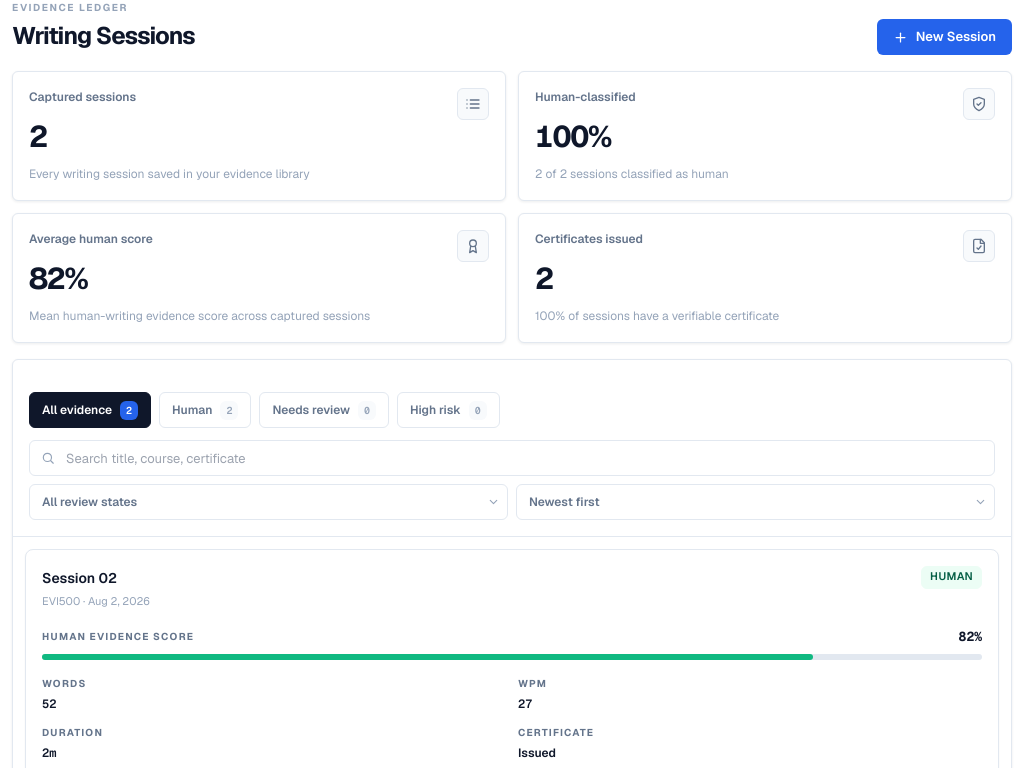
Test: SessionsPage final operational closure › resets all filters from the no-match action
Type "impossible-filter" into the field with placeholder "Search title, course, certificate" at (512, 458), box [29,440,995,476]
(page scrolled)
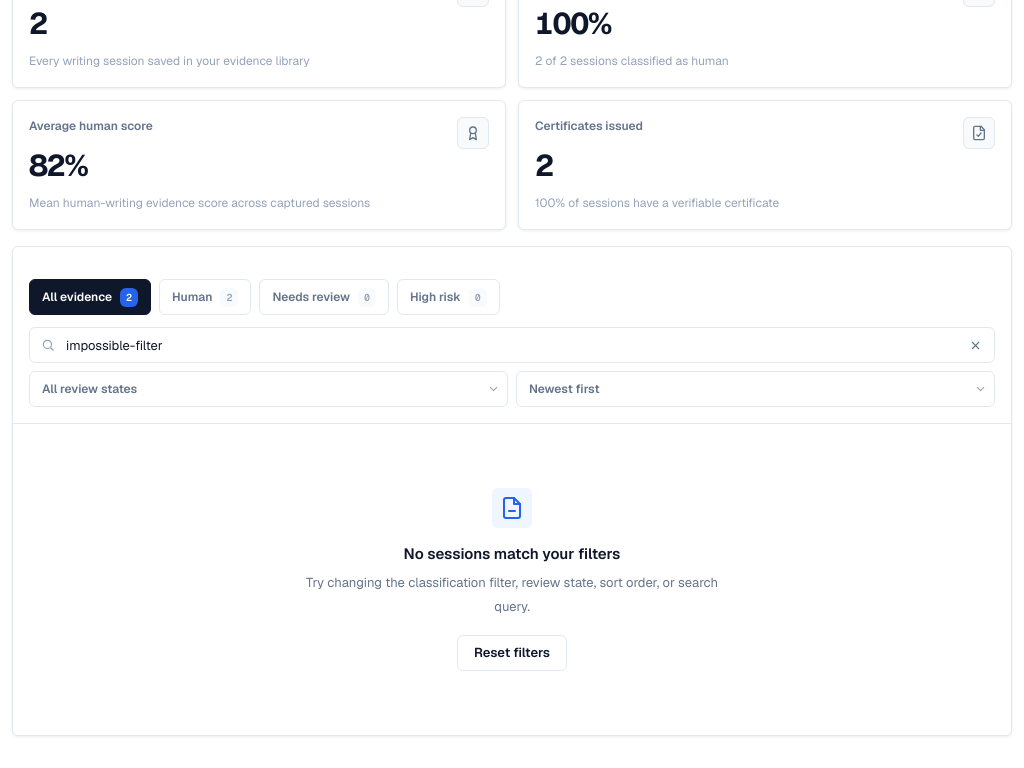
Check: the text "No sessions match your filters" is shown, box [404,544,620,566]
Click the button "Reset filters" at (512, 652), box [457,634,567,670]
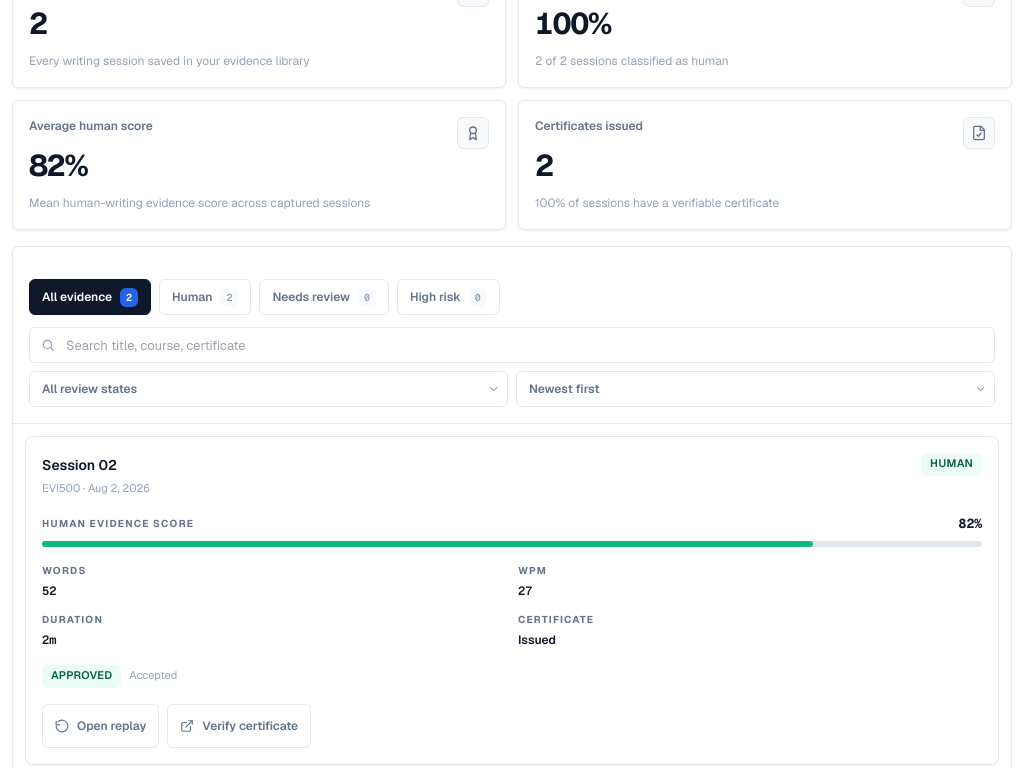
Check: the field with placeholder "Search title, course, certificate" is empty, box [29,327,995,363]
Check: the link "Session 02" is shown, box [42,457,117,475]
